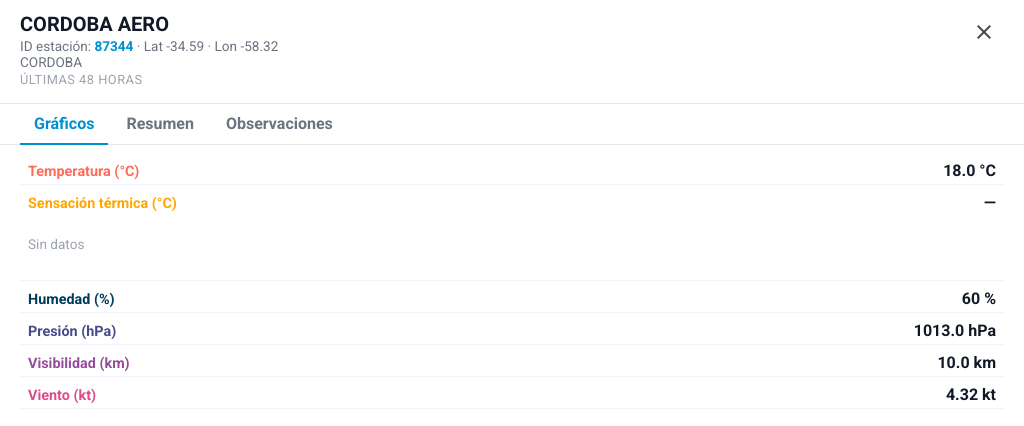
Scenario: WeatherStationHistoryChartsComponent › exposes a nav and renders the Observaciones table when selected
Switch to Observaciones → one row per point, with the condition.
What coordinates should you click on to do the following:
click the button with class "ws-history__nav-btn" showing "Observaciones"
I would click on:
 (279, 124)
Its box is [212, 104, 347, 145].
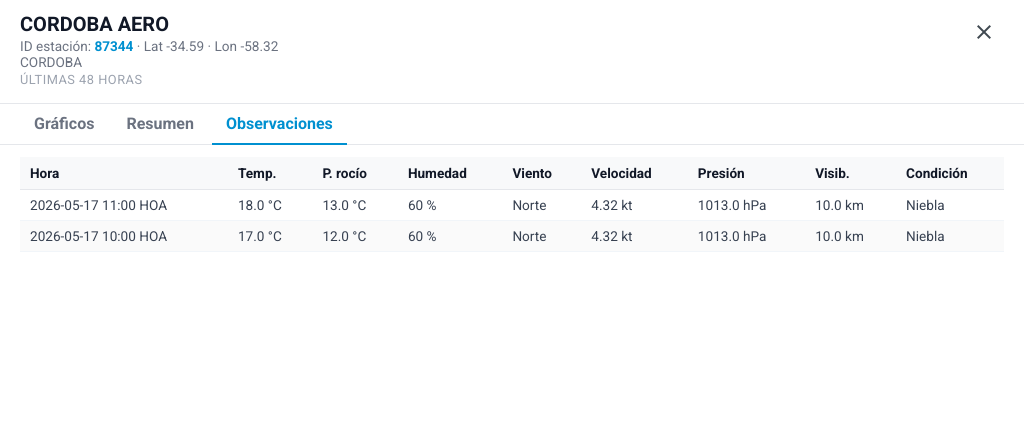
Expected: the text "Niebla" is shown, [896, 190, 1004, 220]
